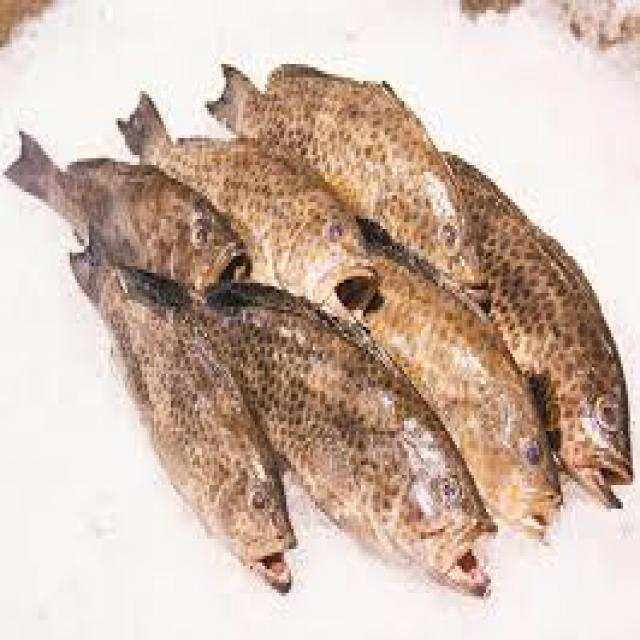grouper: (200, 280, 500, 603), (62, 249, 301, 599), (429, 144, 639, 516), (203, 57, 500, 288), (351, 243, 568, 549), (108, 88, 378, 324), (4, 128, 250, 308)
